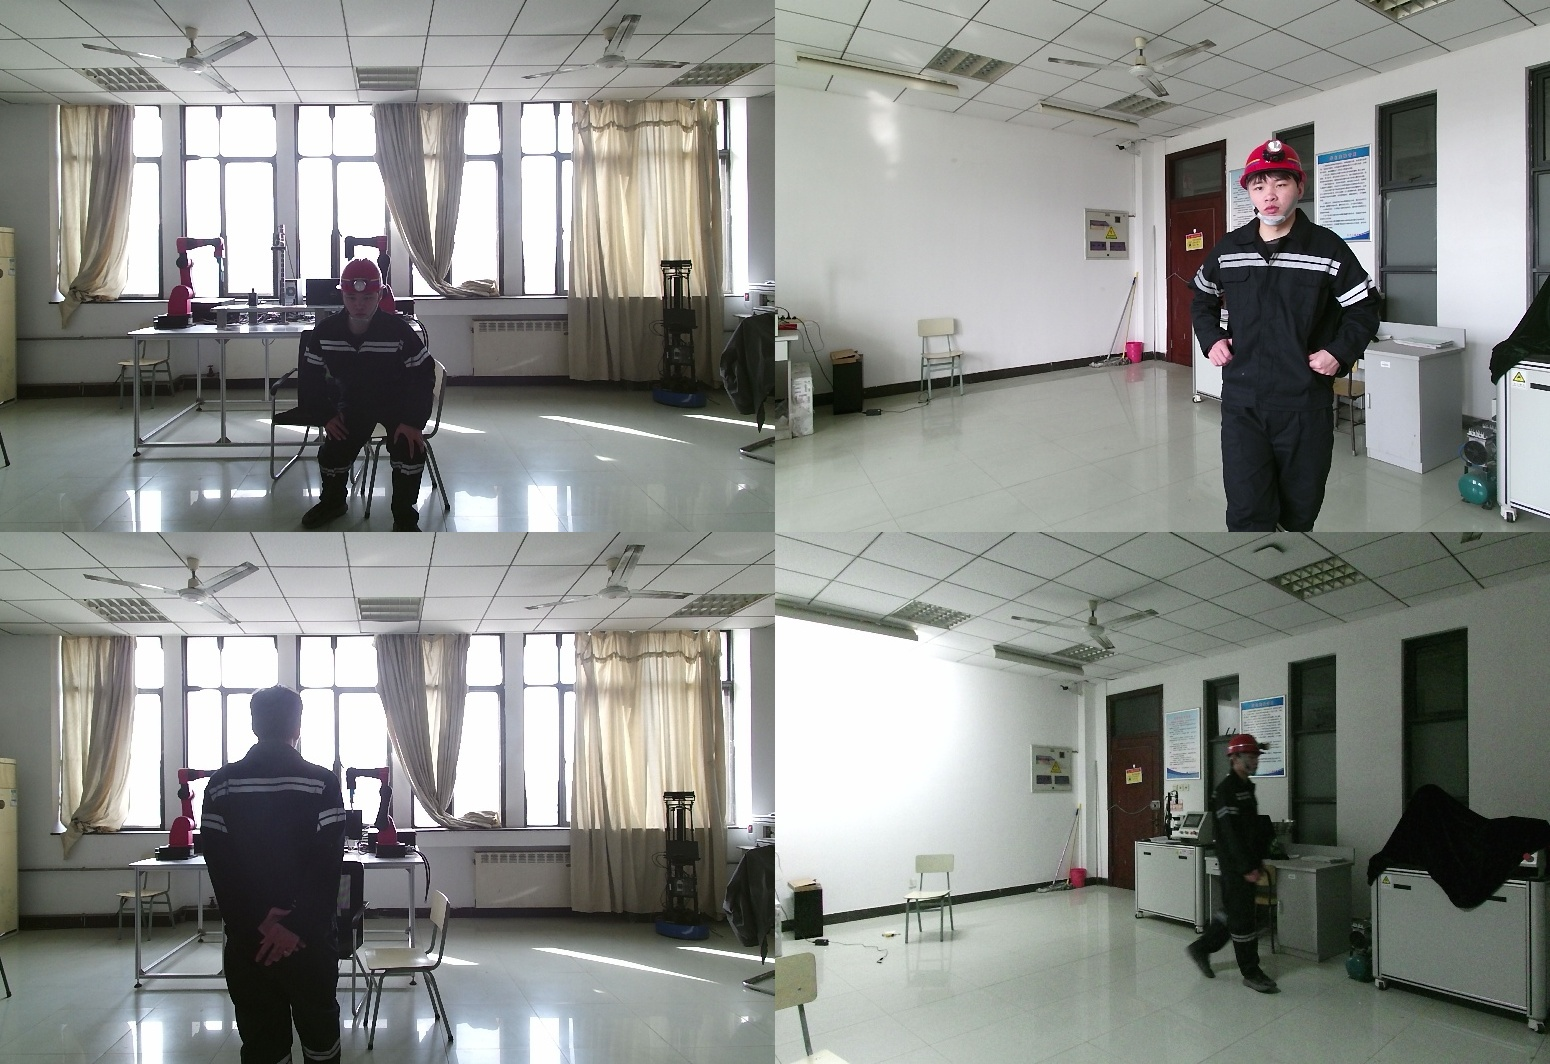person: (1191, 132, 1406, 532), (201, 686, 362, 1064), (301, 259, 453, 532), (1184, 733, 1284, 994)
